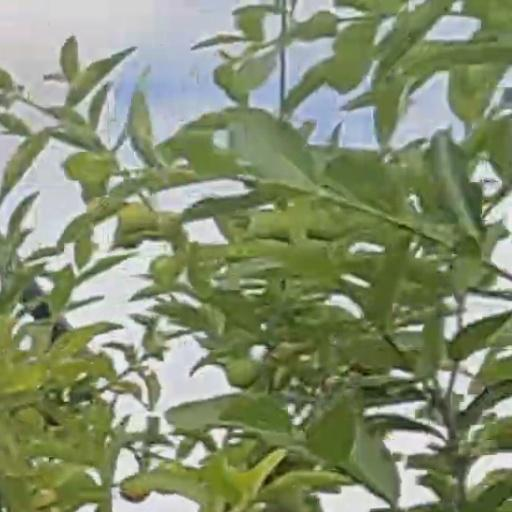acerola_verde: (224, 359, 254, 385), (121, 474, 145, 501)
